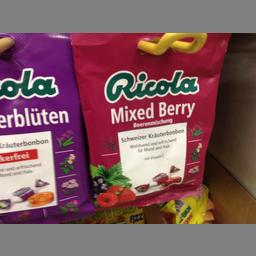candy: (70, 34, 223, 204), (0, 32, 85, 221)
